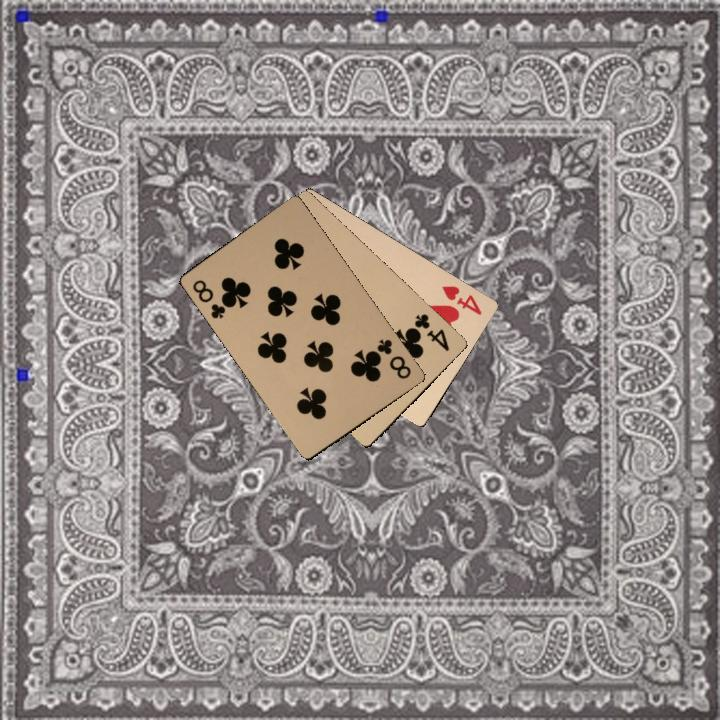4c: (410, 310, 452, 354)
4h: (438, 281, 484, 318)
8c: (188, 275, 232, 321), (372, 335, 414, 382)
